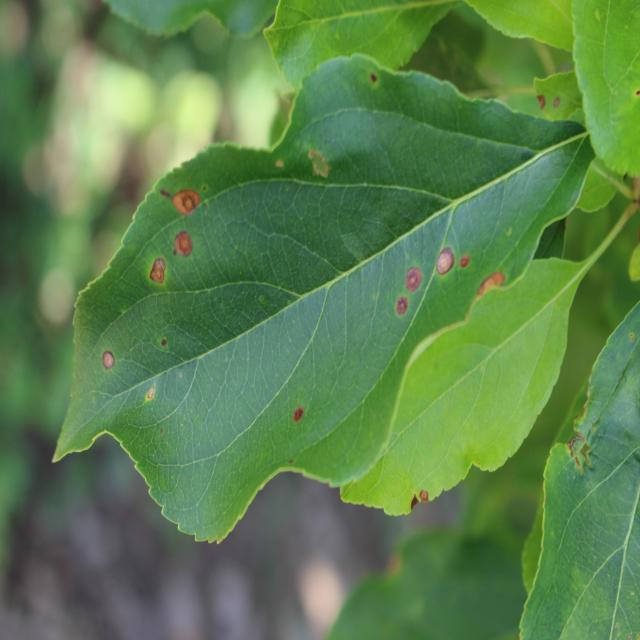Black Rot: (296, 140, 337, 186), (474, 262, 511, 306), (163, 229, 207, 261), (171, 180, 205, 221), (408, 480, 440, 520), (98, 334, 121, 388), (146, 249, 172, 295), (432, 238, 455, 284), (396, 258, 424, 291), (389, 294, 415, 321), (139, 386, 162, 412), (456, 242, 474, 272), (292, 403, 310, 431)
